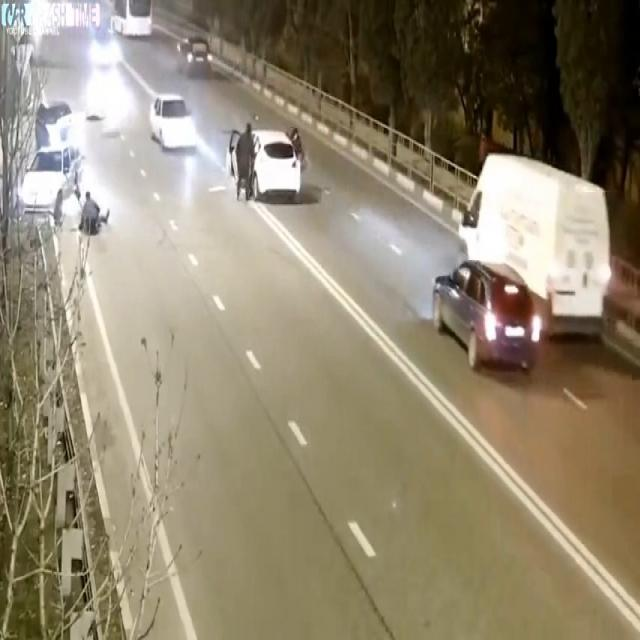Accident: (15, 86, 84, 215)
